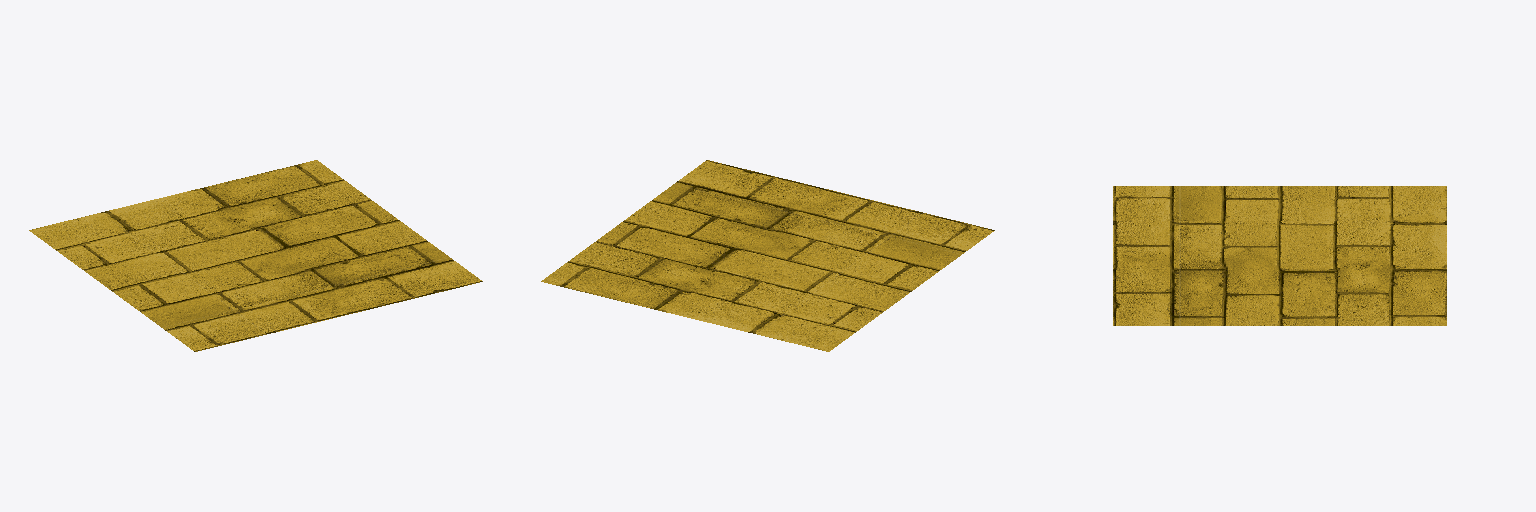
3 renders of one model, left to right at view 1: azimuth 30°, elevation 25°; view 2: azimuth 150°, elevation 25°; view 3: azimuth 270°, elevation 25°, orthographic.
Parts seen in each view (by area): view 1: brick_ceil_x2; view 2: brick_ceil_x2; view 3: brick_ceil_x2.
Part boxes in pixels (x1,y1,x2,y2): brick_ceil_x2: (29, 160, 482, 351); brick_ceil_x2: (541, 160, 994, 351); brick_ceil_x2: (1113, 186, 1446, 325).
Size of the model in its own units: 200 by 0 by 200.
Materials: 1 (1 with a texture image).